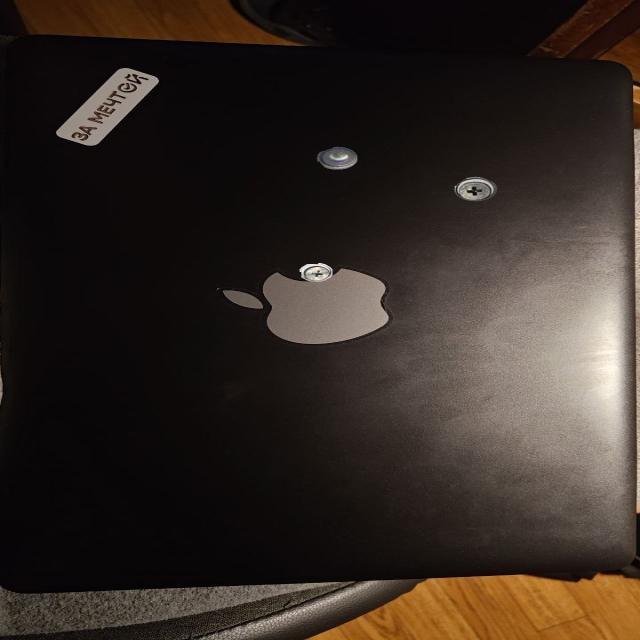lock: (453, 176, 496, 200), (299, 262, 332, 282)
missing_screw: (316, 146, 357, 170)
